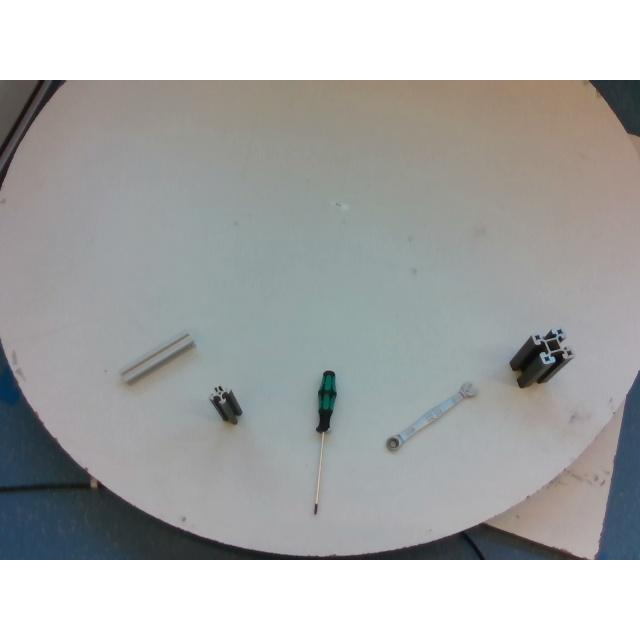F20_20_B: (210, 386, 242, 424)
F20_20_G: (120, 332, 196, 383)
S40_40_B: (509, 328, 573, 388)
Screwdriver: (313, 371, 335, 514)
Wrench: (385, 382, 477, 451)
